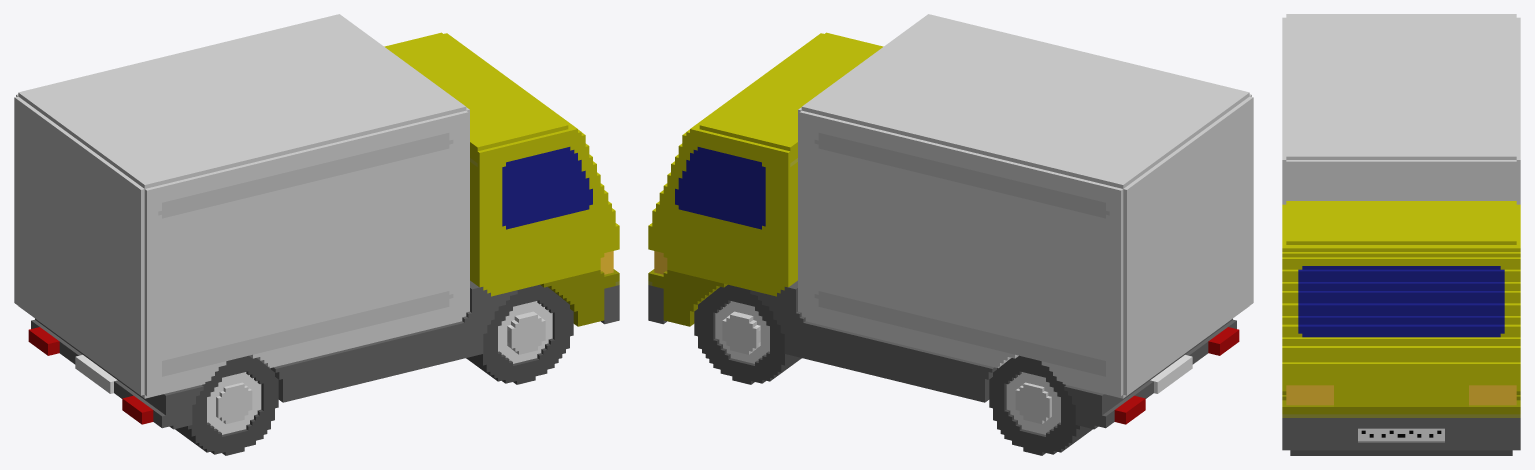
File: van.obj
3 renders of one model, left to right at view 1: azimuth 30°, elevation 25°; view 2: azimuth 150°, elevation 25°; view 3: azimuth 270°, elevation 25°, orthographic. The views are drawn at different scales.
Size of the model in its own units: 126 by 74 by 60.
1 material, 1 textured.
